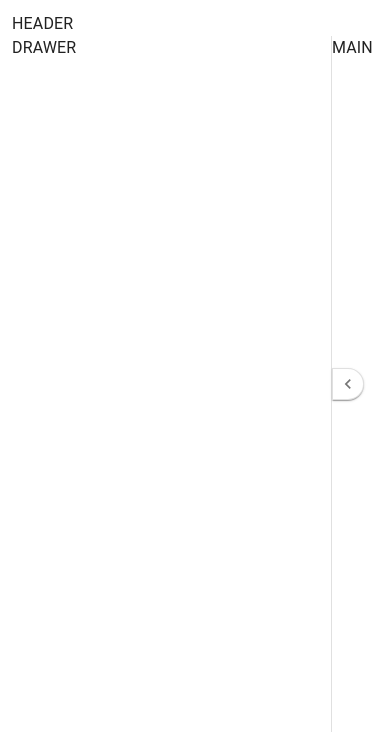
Test case: <Layout/> › starts open on desktop and the handle collapses/expands the sidebar
Click the button named "hide sidebar": (348, 384) [332,368,364,400]
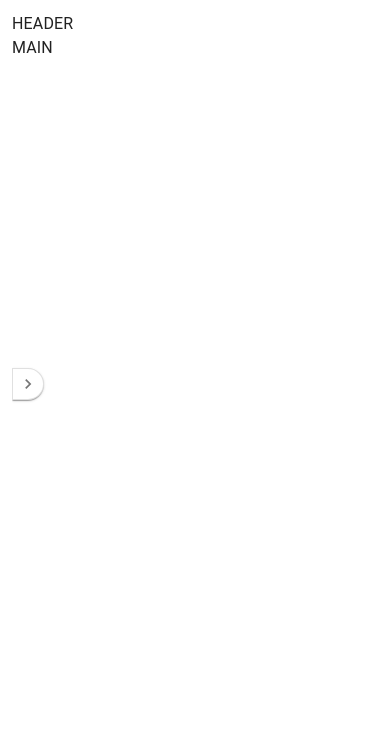
Expected: the button named "show sidebar" is shown
Click the button named "show sidebar": (28, 384) [12,368,44,400]
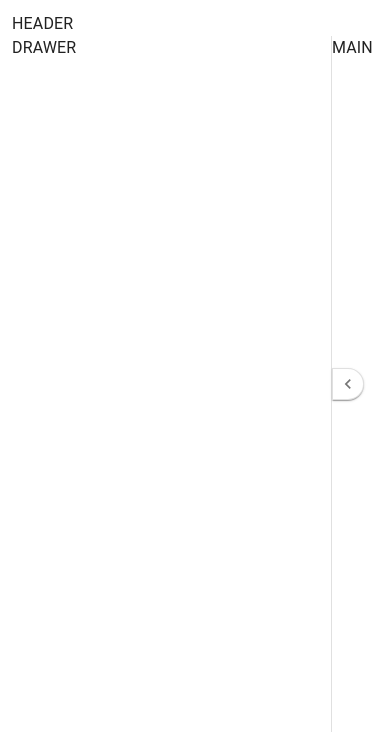
Expected: the button named "hide sidebar" is shown, [332,368,364,400]
